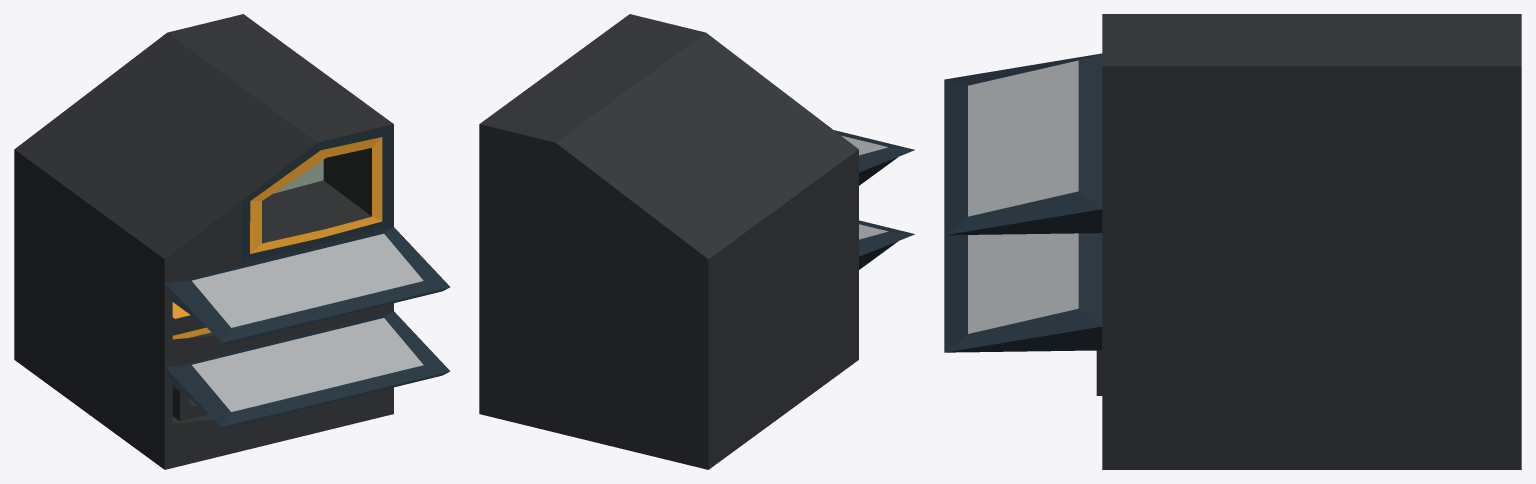
File: BuildingOne.fbx
The picture shows the model from 3 angles, left to right: view 1: azimuth 30°, elevation 25°; view 2: azimuth 150°, elevation 25°; view 3: azimuth 270°, elevation 25°; orthographic projection. The views are drawn at different scales.
Visible parts, largest first — view 1: Cube.185; view 2: Cube.185; view 3: Cube.185.
Part boxes in pixels (box(x1,y1,x2,y2)): Cube.185: box(14, 14, 450, 469); Cube.185: box(479, 14, 914, 469); Cube.185: box(944, 14, 1521, 469).
Bounding box in the file's own units: 1093 × 1322 × 1712.
